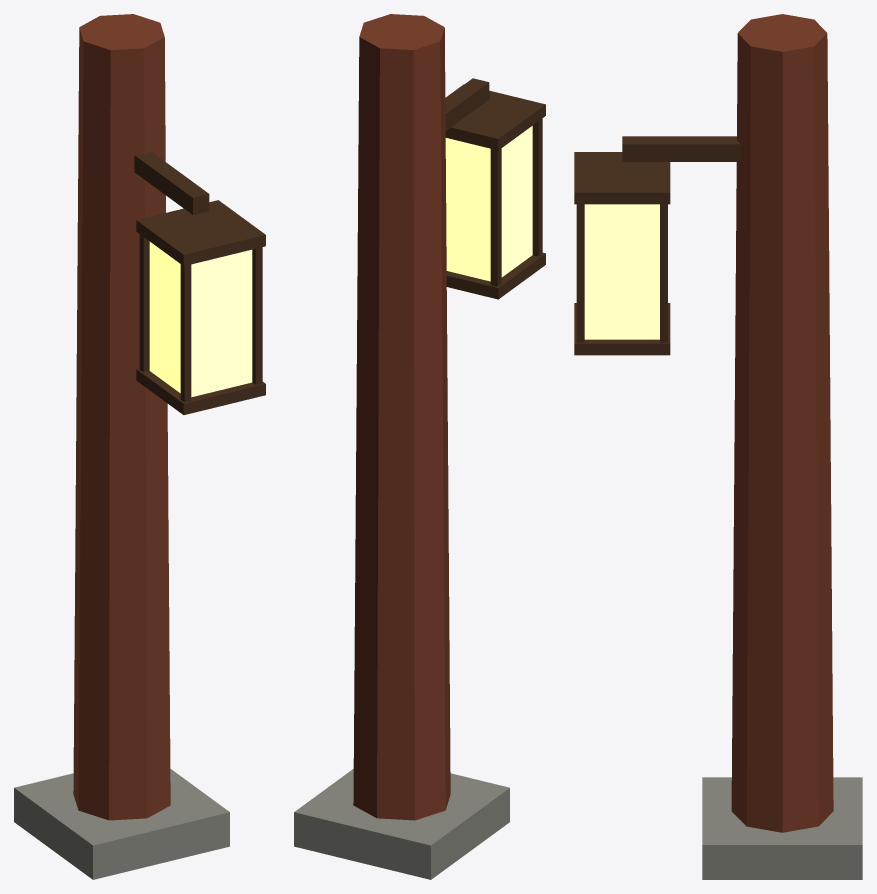
The model's file is prop_post_lamp.glb.
3 renders of one model, left to right at view 1: azimuth 30°, elevation 25°; view 2: azimuth 150°, elevation 25°; view 3: azimuth 270°, elevation 25°, orthographic.
Visible parts, largest first — view 1: Pillar, Lamp_glow, Lamp_frame; view 2: Pillar, Lamp_glow, Lamp_frame; view 3: Pillar, Lamp_glow, Lamp_frame.
Boxes of the visible parts, left/top/right/bottom form: Pillar: left=14, top=14, right=229, bottom=879; Lamp_glow: left=149, top=241, right=252, bottom=397; Lamp_frame: left=136, top=200, right=265, bottom=414; Pillar: left=294, top=14, right=509, bottom=879; Lamp_glow: left=445, top=126, right=532, bottom=281; Lamp_frame: left=445, top=84, right=545, bottom=299; Pillar: left=622, top=14, right=862, bottom=879; Lamp_glow: left=584, top=204, right=659, bottom=339; Lamp_frame: left=574, top=152, right=670, bottom=355.
Size of the model in its own units: 0.5 by 2.8 by 0.9.
